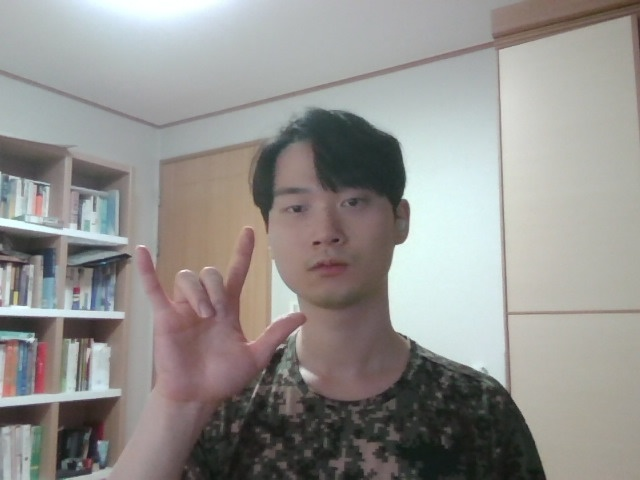iloveyou: (92, 220, 322, 428)
